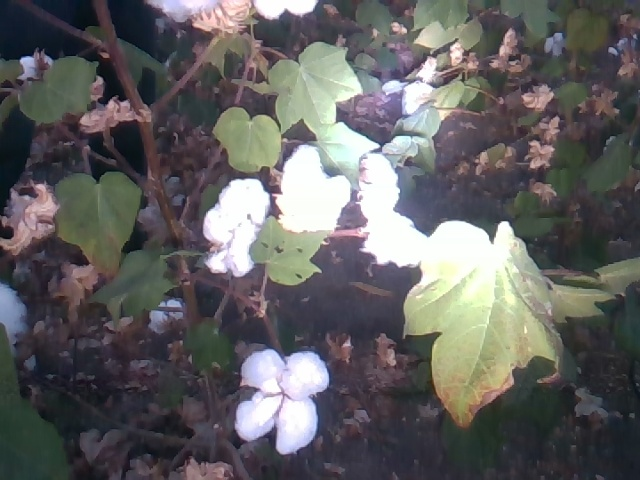cotton: (232, 345, 330, 461), (360, 148, 434, 281), (276, 144, 352, 237), (200, 176, 269, 278), (147, 1, 239, 33), (1, 279, 37, 350), (15, 48, 63, 88), (142, 296, 188, 334), (255, 1, 316, 25), (606, 32, 640, 65), (544, 31, 569, 60)
